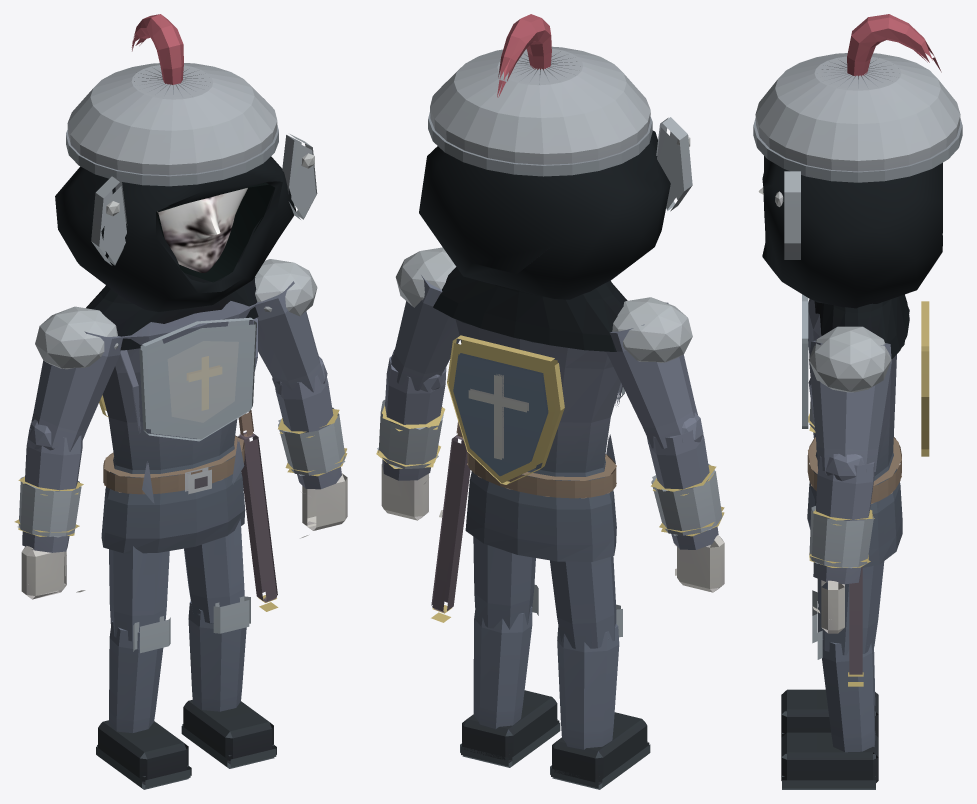
Rendered from HoodedStrangerKnight.glb.
3 renders of one model, left to right at view 1: azimuth 30°, elevation 25°; view 2: azimuth 150°, elevation 25°; view 3: azimuth 270°, elevation 25°, orthographic. The views are drawn at different scales.
Visible parts, largest first — view 1: Head, Body, ArmR, ArmL, LegR, LegL, HeadFace; view 2: Head, Body, ArmR, LegR, LegL, ArmL; view 3: Head, ArmL, LegL, Body, LegR.
Part boxes in pixels (x1,y1,x2,y2): Head: (55, 14, 317, 350); Body: (99, 301, 278, 611); ArmR: (14, 306, 122, 599); ArmL: (255, 259, 347, 538); LegR: (96, 546, 191, 789); LegL: (181, 519, 276, 768); HeadFace: (157, 188, 247, 272); Head: (419, 14, 692, 351); Body: (431, 319, 625, 622); ArmR: (606, 297, 724, 592); LegR: (550, 556, 650, 789); LegL: (460, 536, 560, 767); ArmL: (376, 247, 460, 520); Head: (753, 14, 962, 359); ArmL: (809, 326, 891, 633); LegL: (781, 561, 884, 789); Body: (802, 294, 929, 686); LegR: (781, 579, 878, 737).
Size of the model in its own units: 3.72 by 7.9 by 2.02.
Materials: 2 (1 with a texture image).
